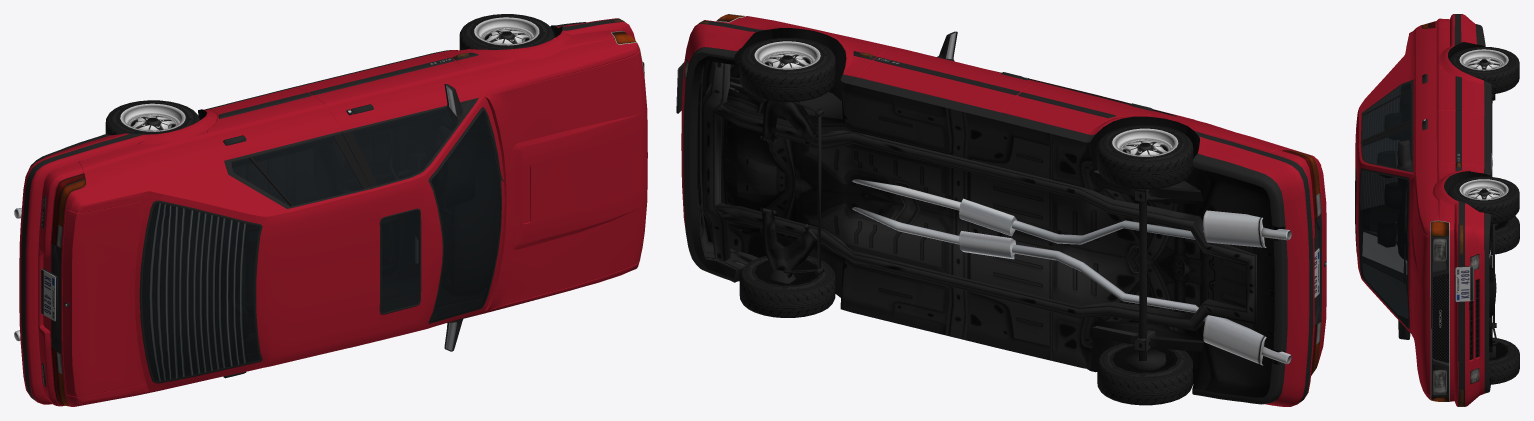
3 views of the same model, side by side, from view 1: azimuth 30°, elevation 25°; view 2: azimuth 150°, elevation 25°; view 3: azimuth 270°, elevation 25° (orthographic). The views are drawn at different scales.
Visible parts, largest first — view 1: kiri86; view 2: kiri86; view 3: kiri86.
Part boxes in pixels (x1=…): kiri86: x1=14, y1=14, x2=647, y2=406; kiri86: x1=676, y1=14, x2=1326, y2=406; kiri86: x1=1355, y1=14, x2=1519, y2=406.
Bounding box in the file's own units: 4.31 × 1.76 × 1.32.
Materials: 8 (7 with a texture image).
